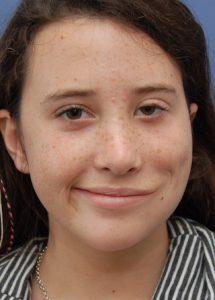strokeEyeWeak: (36, 75, 180, 133)
strokeMouthWeak: (54, 178, 167, 212)
